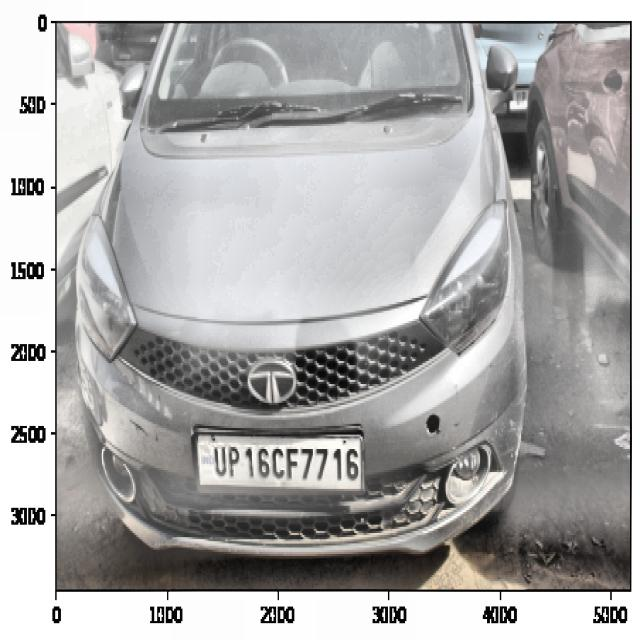license_plate: (208, 435, 364, 490)
